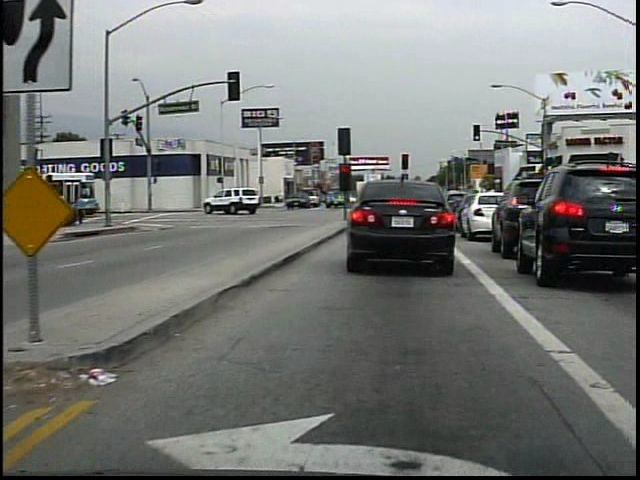person: (74, 190, 94, 227), (275, 187, 287, 209)
